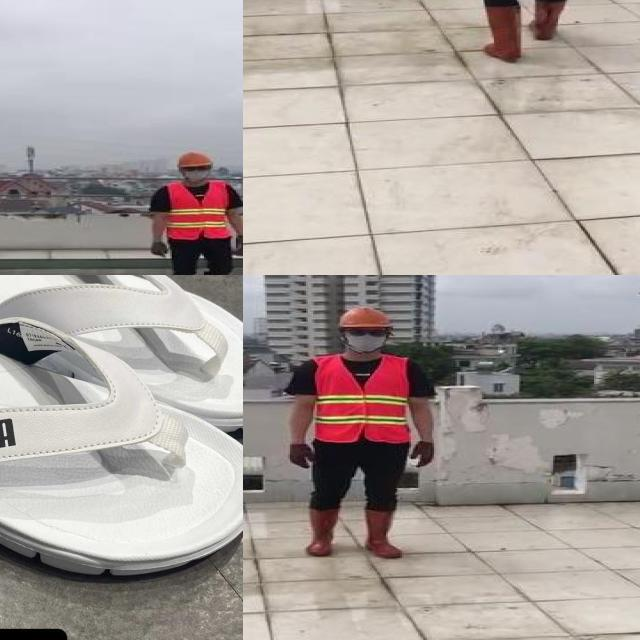Sandals: (0, 275, 243, 604)
boots: (482, 4, 526, 65), (358, 508, 402, 558), (304, 508, 338, 556), (529, 0, 565, 39), (151, 239, 170, 257), (234, 235, 243, 255)
face_mask: (342, 324, 388, 352), (182, 164, 210, 182)
glasses: (342, 326, 392, 338), (179, 164, 211, 172)
hand_glove: (284, 443, 318, 470), (409, 442, 436, 467)
head_helmet: (332, 308, 396, 328), (177, 149, 213, 167)
person: (277, 304, 451, 564), (146, 147, 243, 275)
vest: (313, 354, 413, 443), (167, 182, 227, 240)
